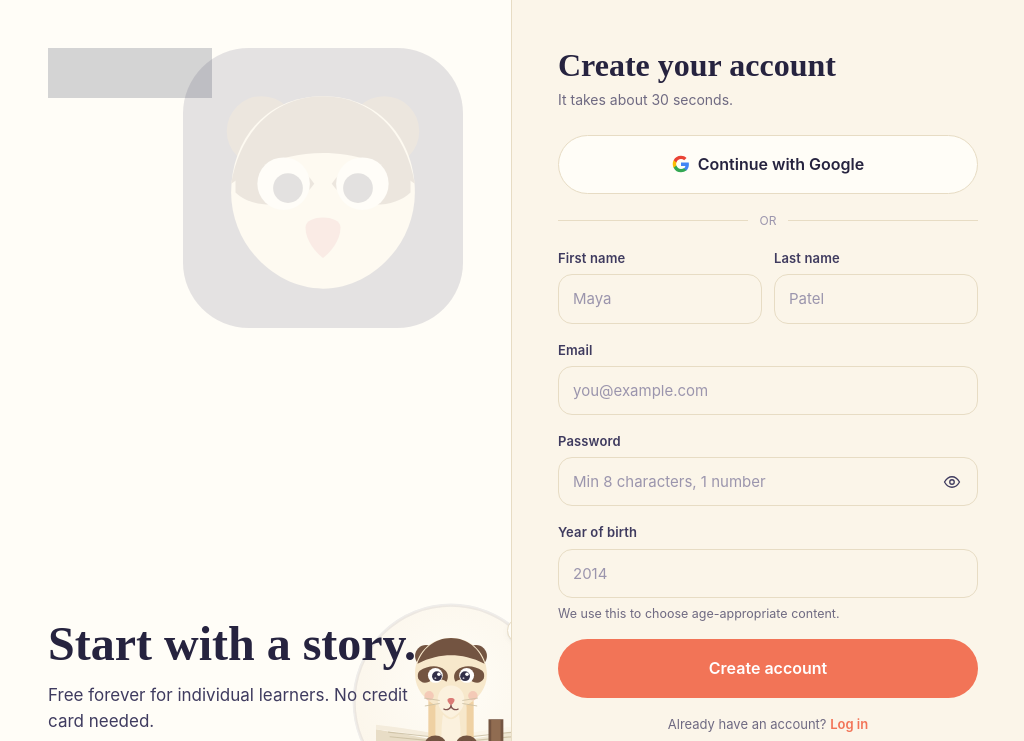
it: SignupRoute validation › shows required-field validation errors
Click the button "Create account".
click(768, 669)  # box [558,639,978,698]
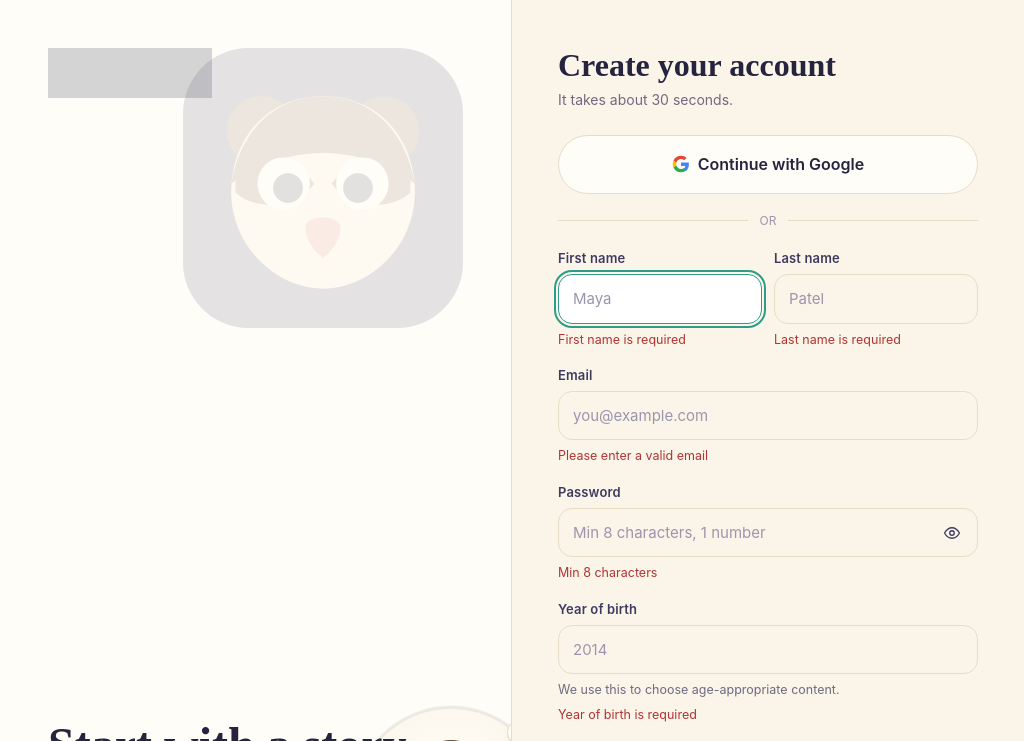
Expected: the text "First name is required" is shown, [558,332,686,347]
Expected: the text "Last name is required" is shown, [774,332,901,347]
Expected: the text "Please enter a valid email" is shown, [558,448,708,463]
